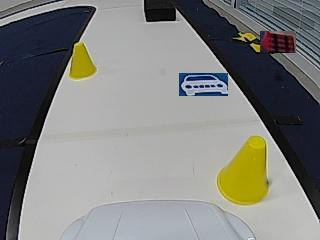block: (144, 0, 175, 22)
cone: (217, 136, 267, 204), (69, 44, 97, 79)
